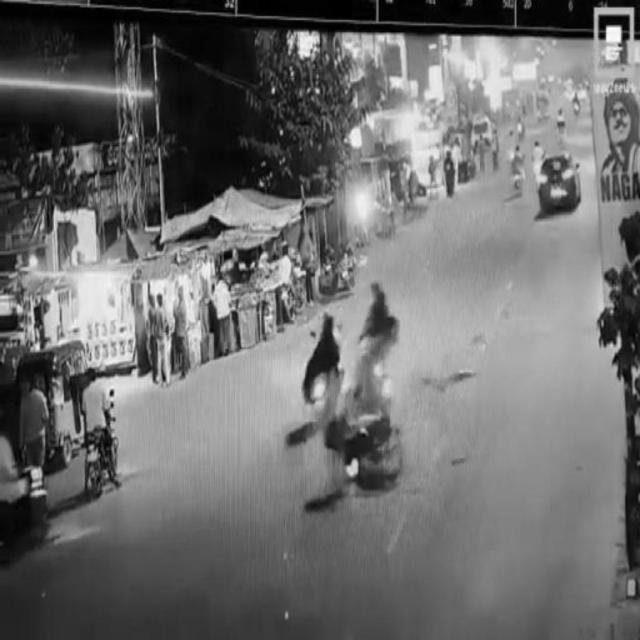accident: (337, 302, 405, 482)
person: (27, 374, 51, 487), (152, 294, 169, 387)
vehicle: (23, 336, 105, 468), (300, 292, 344, 433), (84, 361, 118, 495), (535, 155, 582, 216)
